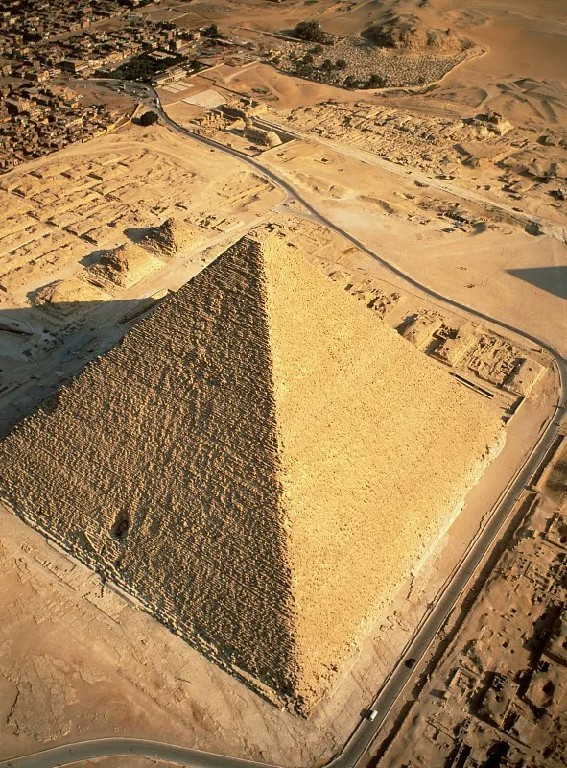Pyramid: (2, 229, 506, 716)
